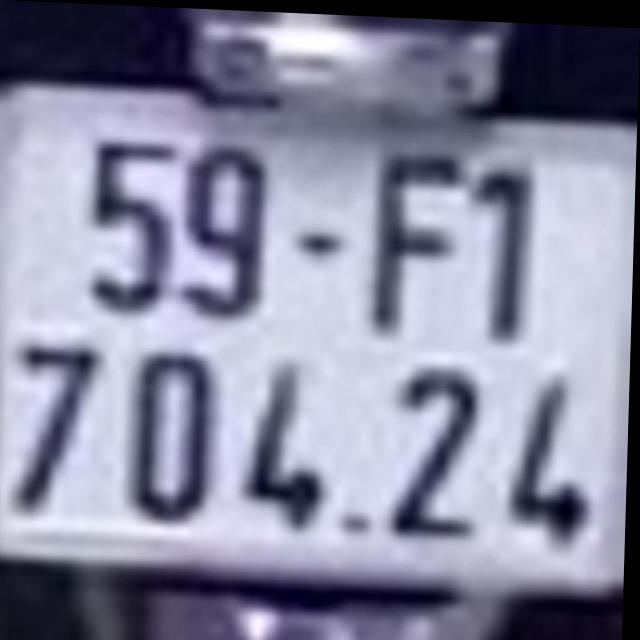0: (126, 344, 220, 520)
1: (477, 150, 531, 335)
2: (394, 355, 481, 534)
4: (510, 356, 594, 546), (256, 350, 326, 530)
5: (95, 138, 175, 312)
7: (18, 339, 104, 508)
9: (183, 137, 270, 317)
F: (373, 146, 464, 342)
